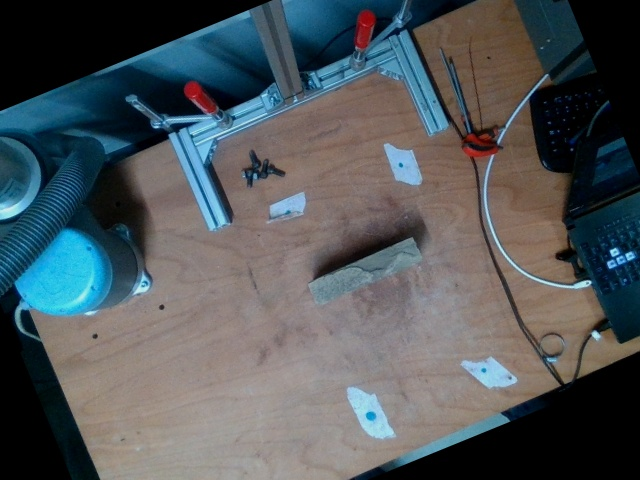brick-side: (309, 239, 422, 305)
